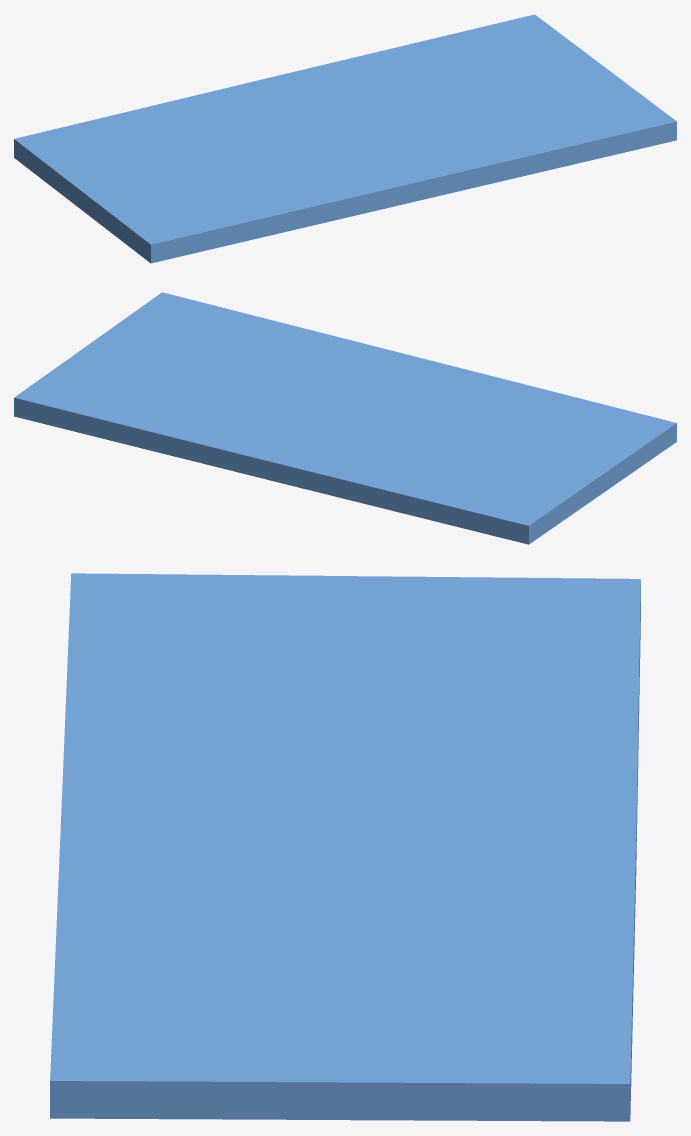
3 renders of one model, top to bottom at view 1: azimuth 30°, elevation 25°; view 2: azimuth 150°, elevation 25°; view 3: azimuth 270°, elevation 25°, orthographic. The views are drawn at different scales.
Bounding box in the file's own units: 88.75 × 3.05 × 43.4.
